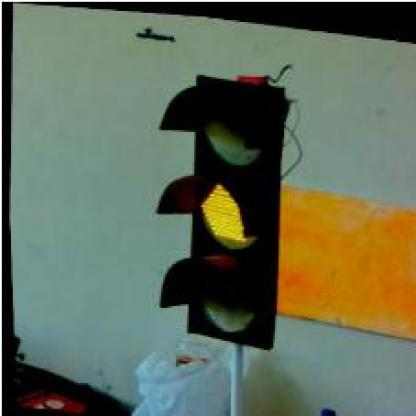yellow: (145, 67, 291, 344)
